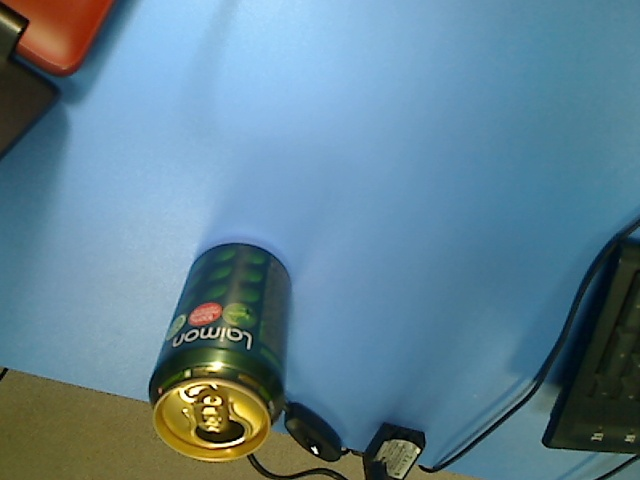can: (148, 240, 290, 465)
